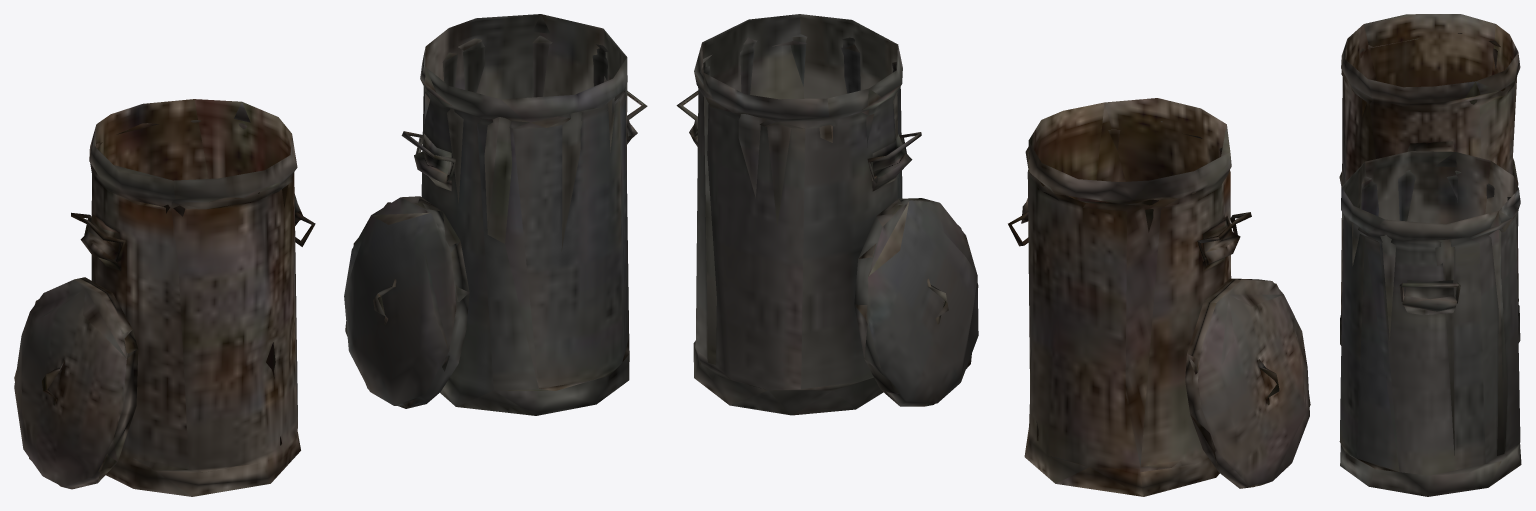
Rendered from trash.glb.
3 renders of one model, left to right at view 1: azimuth 30°, elevation 25°; view 2: azimuth 150°, elevation 25°; view 3: azimuth 270°, elevation 25°, orthographic. The views are drawn at different scales.
Visible parts, largest first — view 1: lo; view 2: lo; view 3: lo.
Part boxes in pixels (left/top/right/bottom): lo: left=14, top=14, right=647, bottom=496; lo: left=676, top=14, right=1310, bottom=496; lo: left=1339, top=14, right=1521, bottom=496.
Size of the model in its own units: 1.78 by 0.9063 by 0.5531.
1 material, 1 textured.
